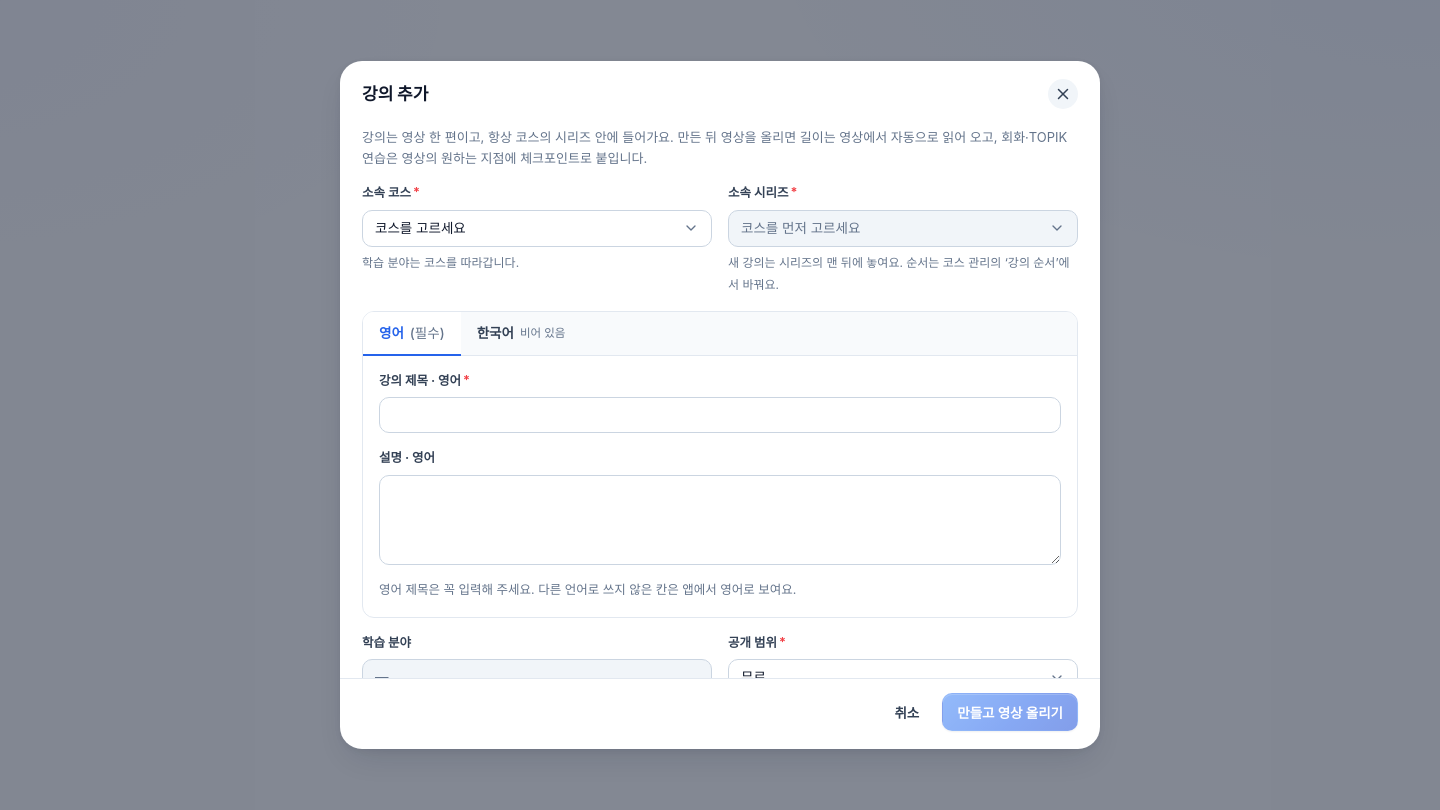
Test: LectureFormModal › points to the Courses page when the chosen course has no series yet
Click the button named "소속 코스" at (420, 228), box [362,210,712,247]
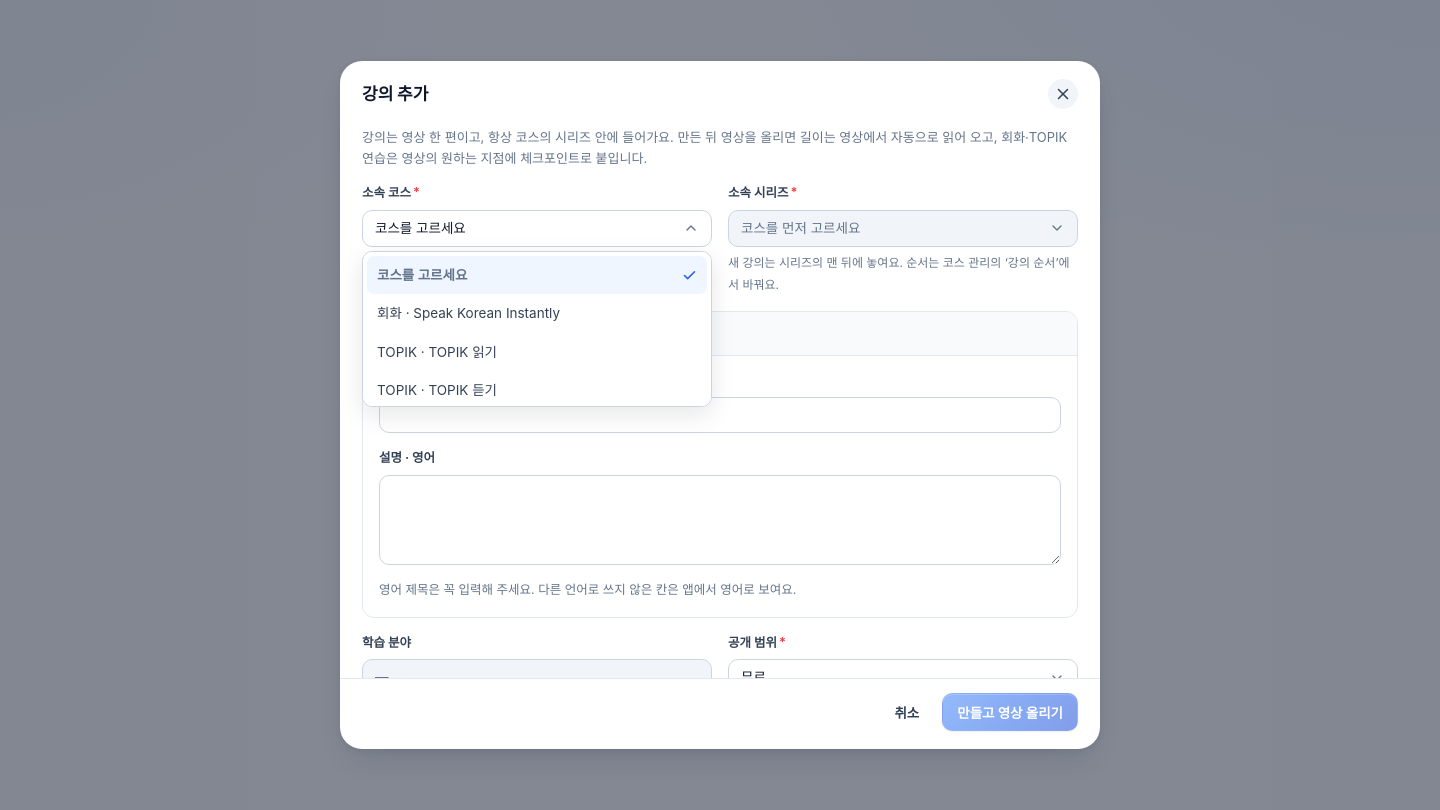
Click the option "TOPIK · TOPIK 듣기" at (437, 390), box [377,382,497,398]
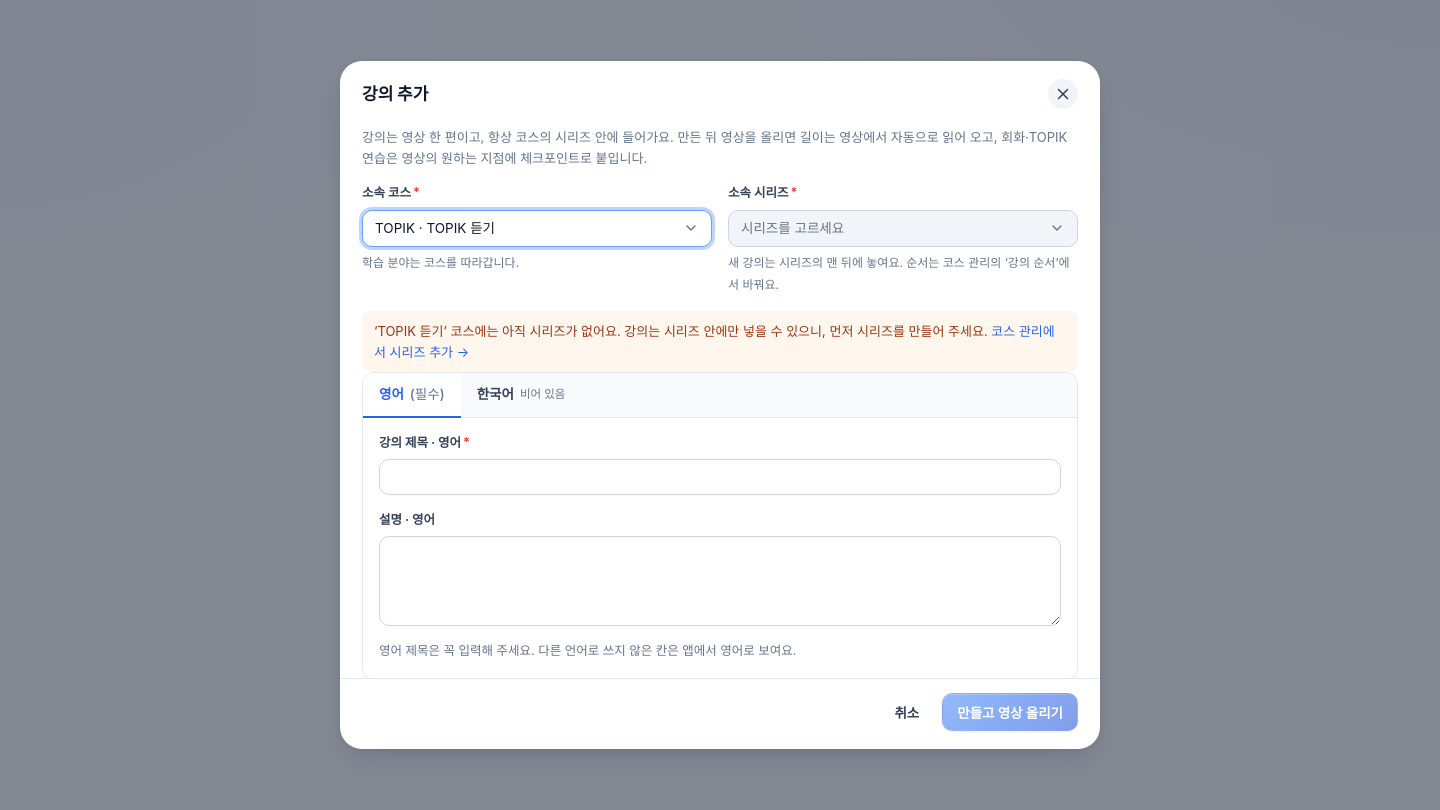
Expected: the button "만들고 영상 올리기" is disabled, [942,693,1078,731]
Result: the text "아직 시리즈가 없어요" is shown at [444,323,988,339]
